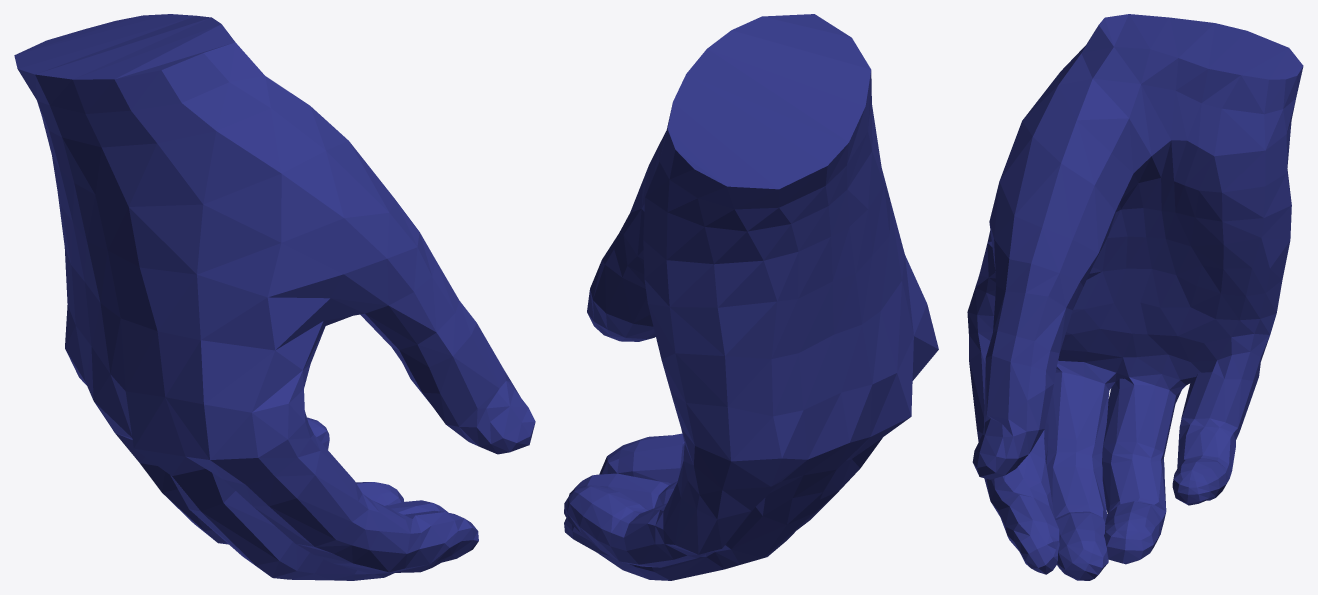
The picture shows the model from 3 angles, left to right: view 1: azimuth 30°, elevation 25°; view 2: azimuth 150°, elevation 25°; view 3: azimuth 270°, elevation 25°; orthographic projection. The views are drawn at different scales.
Bounding box in the file's own units: 0.102 × 0.1459 × 0.0943.
